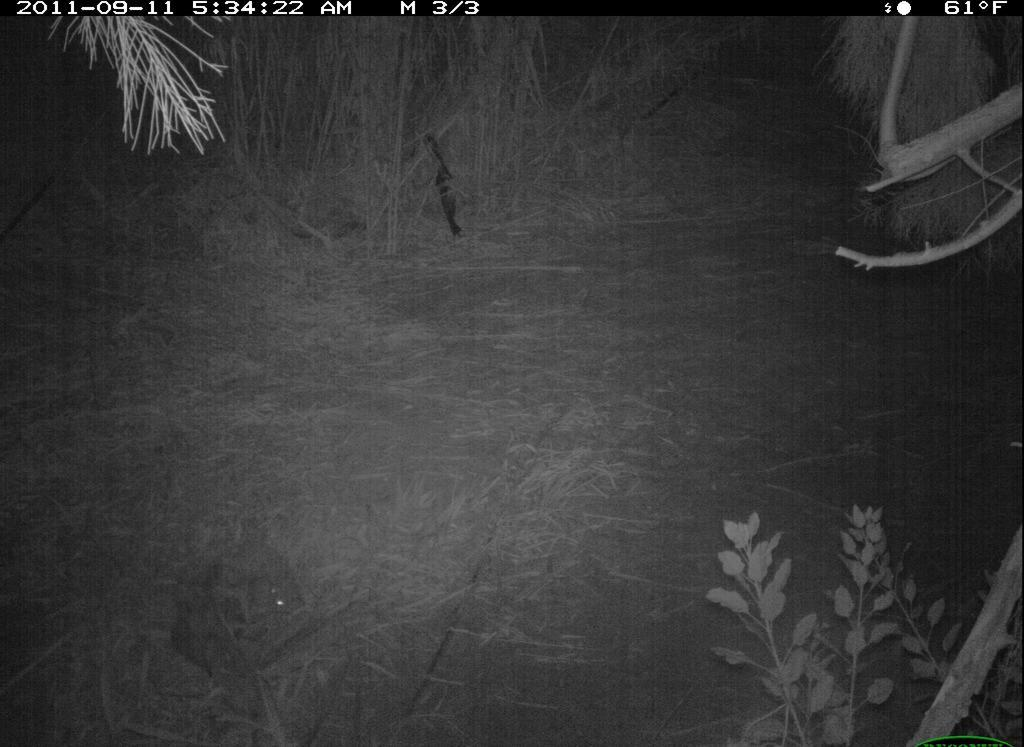bobcat: (172, 514, 327, 716)
